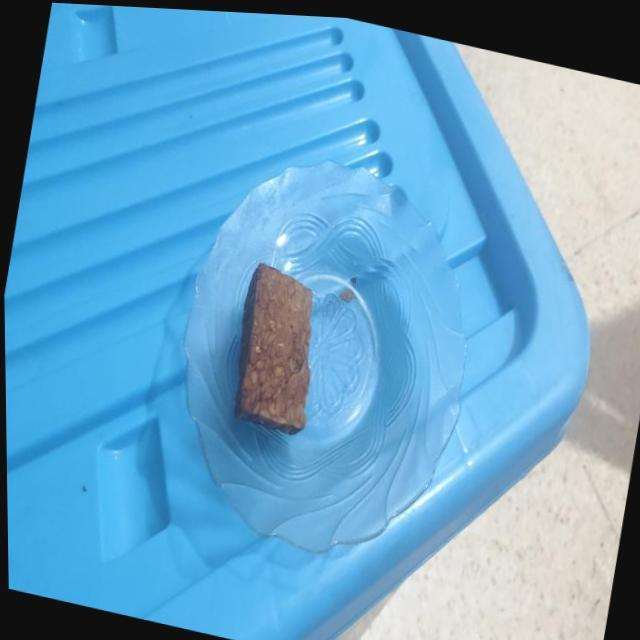tempe_goreng: (234, 263, 312, 434)
